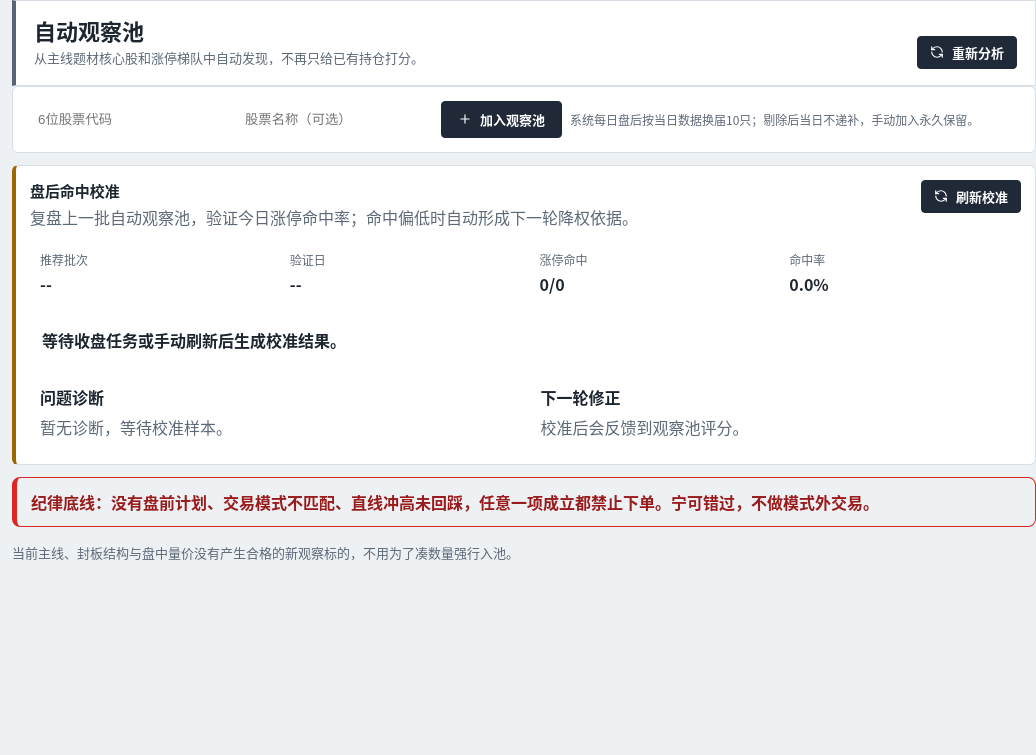
Test: 自动观察池显式刷新 › 首次进入只GET，点击重新分析后直接采用POST的持久化结果
Click the button "重新分析" at (967, 52), box x1=917 y1=36 x2=1017 y2=68
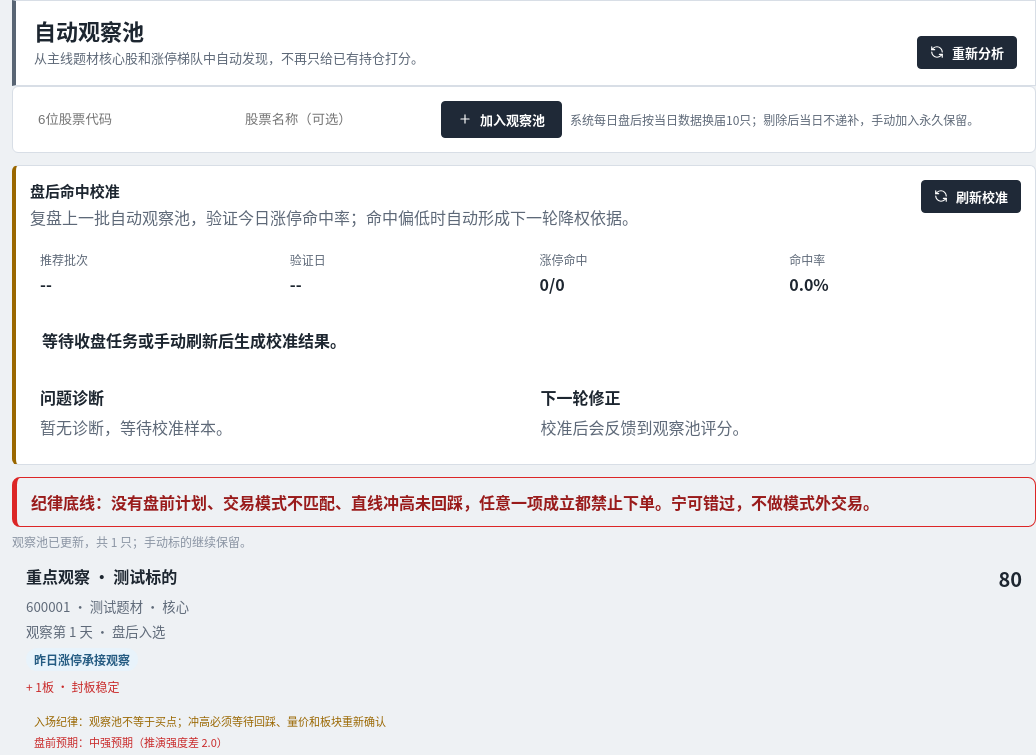
Now the text "重点观察 · 测试标的" is shown, box x1=26 y1=564 x2=177 y2=593
